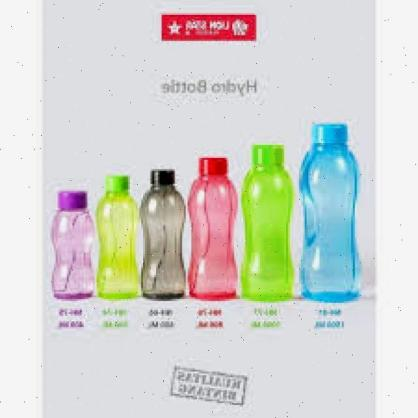bottle: (299, 117, 362, 298), (238, 138, 298, 300), (186, 149, 241, 294), (86, 171, 143, 306), (141, 157, 186, 302), (51, 174, 93, 304)
cap: (310, 120, 350, 148), (248, 142, 286, 166), (55, 188, 91, 210), (197, 155, 229, 176), (149, 166, 177, 185), (104, 174, 130, 190)
